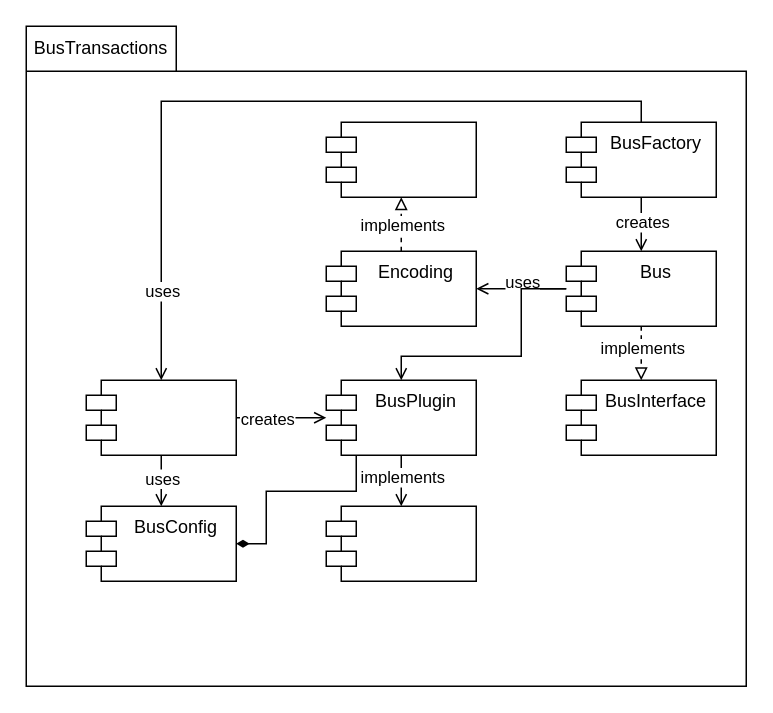
The diagram is 773 pixels wide and 713 high, and some of its shapes have lost their labels. The box of each missing label's shape, as (x1, y1, x2, y2) in pixels:
BusPlugin Factory: (85, 379, 236, 455)
BusPlugin Interface: (325, 505, 476, 581)
Encoding Protocol: (325, 121, 476, 197)
